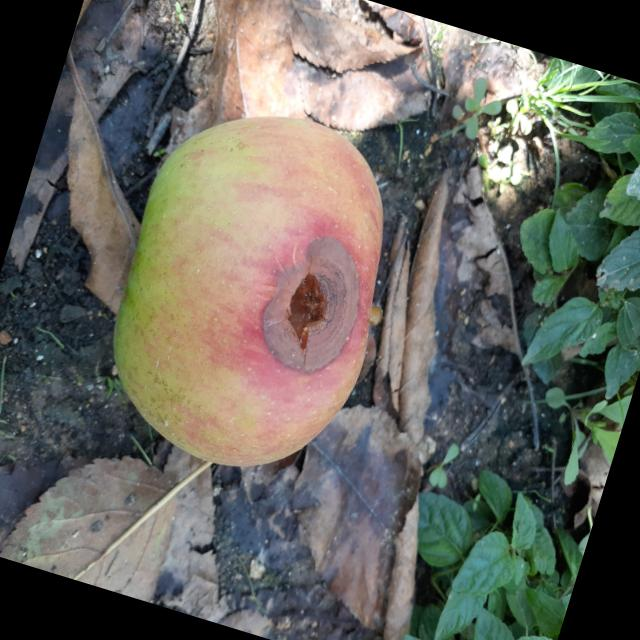rotten: (72, 75, 435, 505)
